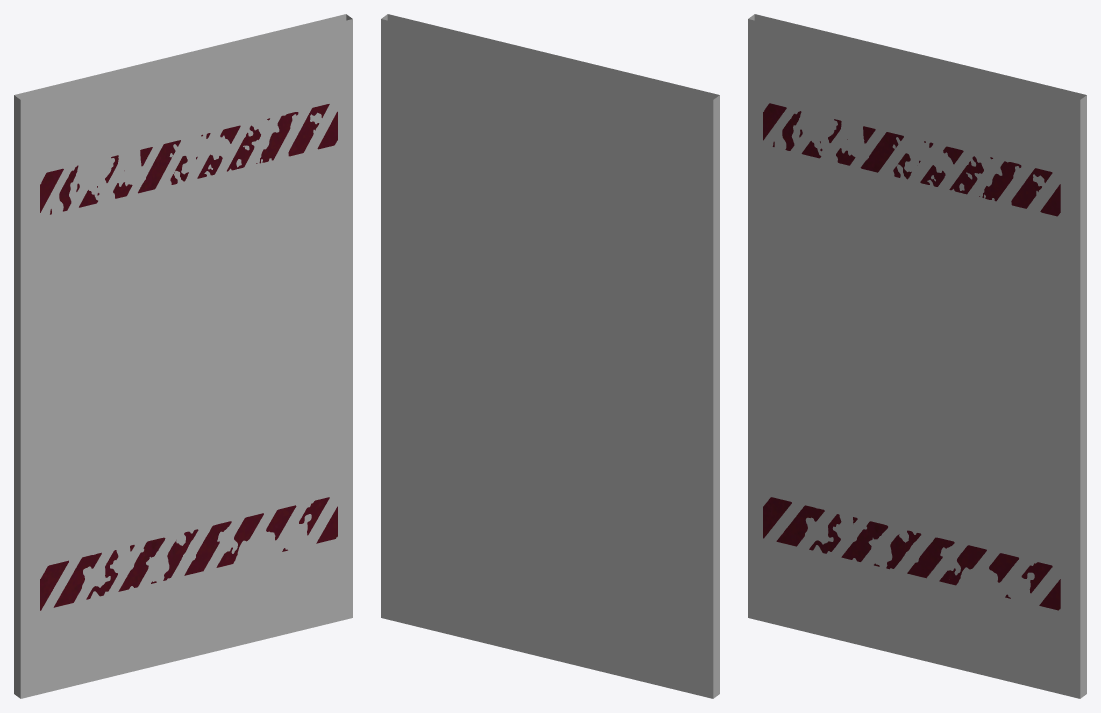
Rendered from 03_02_containment_cube_door.dae.
3 renders of one model, left to right at view 1: azimuth 30°, elevation 25°; view 2: azimuth 150°, elevation 25°; view 3: azimuth 330°, elevation 25°, orthographic.
Parts seen in each view (by area): view 1: pCube33, polySurface8; view 2: pCube33; view 3: pCube33, polySurface8.
Part boxes in pixels (x1=…): pCube33: x1=14, y1=14, x2=352, y2=698; polySurface8: x1=40, y1=104, x2=337, y2=610; pCube33: x1=381, y1=14, x2=719, y2=698; pCube33: x1=748, y1=14, x2=1086, y2=698; polySurface8: x1=763, y1=103, x2=1060, y2=610.
Size of the model in its own units: 1.57 by 2.71 by 0.0732.
